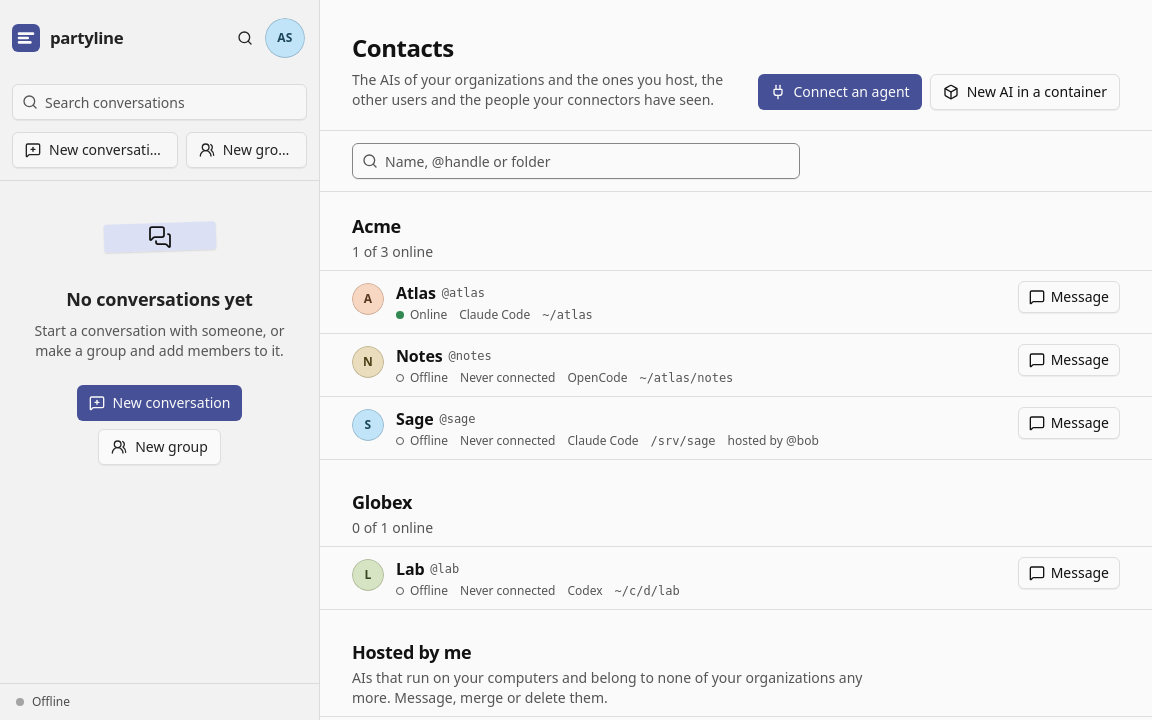
Test: filtering (CONT-01) › finds an AI by a name
The width and height of the screenshot is (1152, 720).
Type "Lab" into the search field named "Filter contacts" at (576,161), box [352, 143, 800, 179]
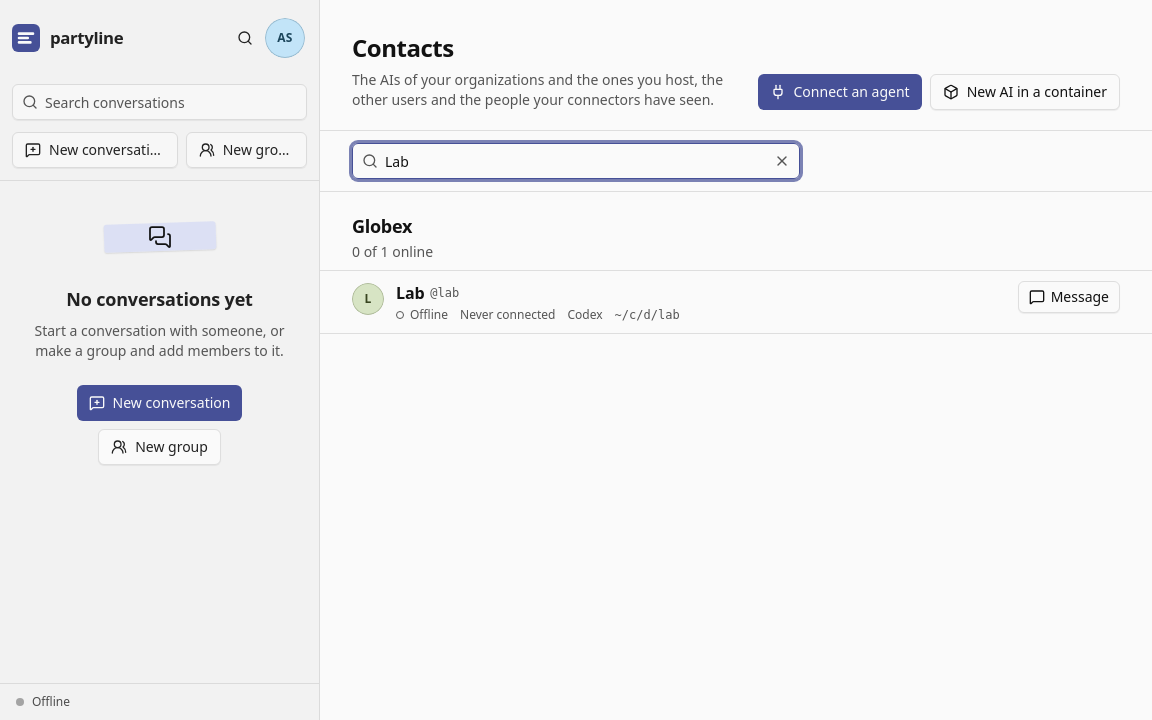
Check: the heading "Acme" is gone
